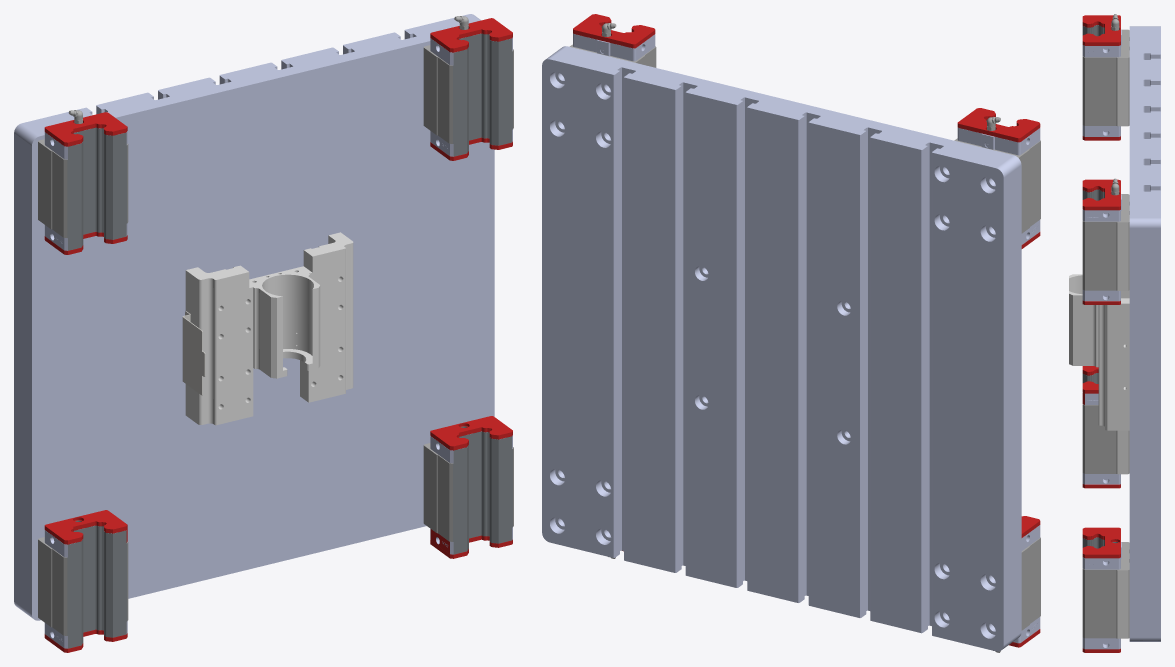
Rendered from Y_Axis2.fbx.
3 renders of one model, left to right at view 1: azimuth 30°, elevation 25°; view 2: azimuth 150°, elevation 25°; view 3: azimuth 270°, elevation 25°, orthographic. The views are drawn at different scales.
Visible parts, largest first — view 1: small gantry Cnc machine.IGS-1/11011M084-P02.0馱釬怢.IGS-1-soli, small gantry Cnc machine.IGS-1/A-02007G-10.IGS-1-solid1, small gantry Cnc machine.IGS-1/HGH45C_衵猾_temp.IGS-2-solid1, small gantry Cnc machine.IGS-1/HGH45C_衵猾_temp.IGS-1-solid1, small gantry Cnc machine.IGS-1/HGH45C_酘猾_temp.IGS-2-solid1, small gantry Cnc machine.IGS-1/HGH45C_酘猾_temp.IGS-1-solid1, small gantry Cnc machine.IGS-1/B-07007A-4D.IGS-1-solid1; view 2: small gantry Cnc machine.IGS-1/11011M084-P02.0馱釬怢.IGS-1-soli, small gantry Cnc machine.IGS-1/HGH45C_酘猾_temp.IGS-2-solid1, small gantry Cnc machine.IGS-1/HGH45C_酘猾_temp.IGS-1-solid1, small gantry Cnc machine.IGS-1/HGH45C_衵猾_temp.IGS-2-solid1; view 3: small gantry Cnc machine.IGS-1/11011M084-P02.0馱釬怢.IGS-1-soli, small gantry Cnc machine.IGS-1/A-02007G-10.IGS-1-solid1, small gantry Cnc machine.IGS-1/HGH45C_衵猾_temp.IGS-1-solid1, small gantry Cnc machine.IGS-1/HGH45C_酘猾_temp.IGS-2-solid1, small gantry Cnc machine.IGS-1/HGH45C_酘猾_temp.IGS-1-solid1, small gantry Cnc machine.IGS-1/HGH45C_衵猾_temp.IGS-2-solid1.
Boxes of the visible parts, x1,y1,x2,y2 form: small gantry Cnc machine.IGS-1/11011M084-P02.0馱釬怢.IGS-1-soli: (14, 14, 494, 620); small gantry Cnc machine.IGS-1/A-02007G-10.IGS-1-solid1: (185, 232, 353, 425); small gantry Cnc machine.IGS-1/HGH45C_衵猾_temp.IGS-2-solid1: (38, 510, 128, 652); small gantry Cnc machine.IGS-1/HGH45C_衵猾_temp.IGS-1-solid1: (423, 416, 513, 558); small gantry Cnc machine.IGS-1/HGH45C_酘猾_temp.IGS-2-solid1: (38, 112, 128, 254); small gantry Cnc machine.IGS-1/HGH45C_酘猾_temp.IGS-1-solid1: (423, 18, 513, 160); small gantry Cnc machine.IGS-1/B-07007A-4D.IGS-1-solid1: (182, 311, 205, 395); small gantry Cnc machine.IGS-1/11011M084-P02.0馱釬怢.IGS-1-soli: (542, 46, 1021, 651); small gantry Cnc machine.IGS-1/HGH45C_酘猾_temp.IGS-2-solid1: (954, 108, 1040, 248); small gantry Cnc machine.IGS-1/HGH45C_酘猾_temp.IGS-1-solid1: (569, 14, 656, 67); small gantry Cnc machine.IGS-1/HGH45C_衵猾_temp.IGS-2-solid1: (1009, 516, 1040, 647); small gantry Cnc machine.IGS-1/11011M084-P02.0馱釬怢.IGS-1-soli: (1129, 26, 1160, 641); small gantry Cnc machine.IGS-1/A-02007G-10.IGS-1-solid1: (1069, 274, 1129, 430); small gantry Cnc machine.IGS-1/HGH45C_衵猾_temp.IGS-1-solid1: (1082, 527, 1129, 652); small gantry Cnc machine.IGS-1/HGH45C_酘猾_temp.IGS-2-solid1: (1082, 15, 1129, 140); small gantry Cnc machine.IGS-1/HGH45C_酘猾_temp.IGS-1-solid1: (1082, 179, 1129, 304); small gantry Cnc machine.IGS-1/HGH45C_衵猾_temp.IGS-2-solid1: (1082, 366, 1129, 488).
Bounding box in the file's own units: 600 × 664 × 118.
